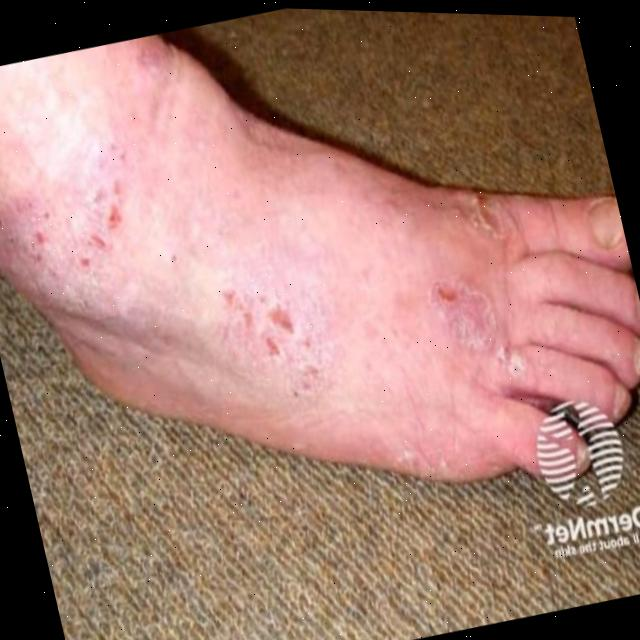Eczema: (0, 55, 539, 488)
